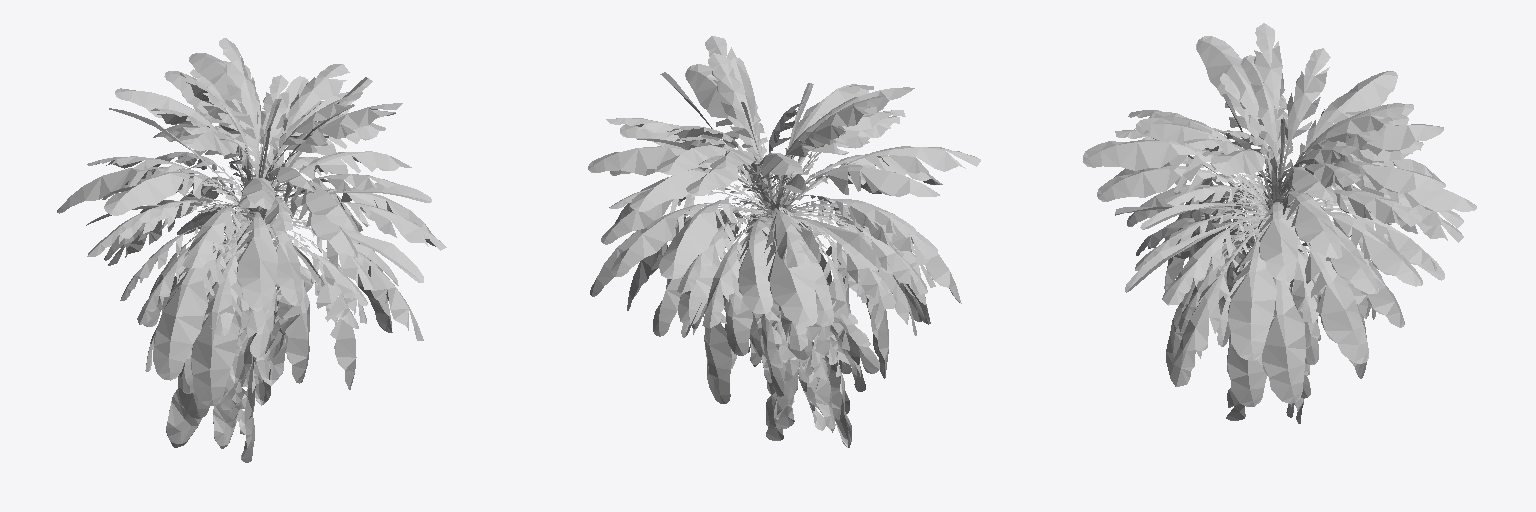
Rendered from leaf3.obj.
The picture shows the model from 3 angles: view 1: azimuth 30°, elevation 25°; view 2: azimuth 150°, elevation 25°; view 3: azimuth 270°, elevation 25°; orthographic projection.
Visible parts, largest first — view 1: Palm_Tree_M_01_L.005; view 2: Palm_Tree_M_01_L.005; view 3: Palm_Tree_M_01_L.005.
Part boxes in pixels (x1,y1,x2,y2): Palm_Tree_M_01_L.005: (57,38,446,462); Palm_Tree_M_01_L.005: (588,36,980,447); Palm_Tree_M_01_L.005: (1083,23,1476,423).
Size of the model in its own units: 7.93 by 8.13 by 8.01.